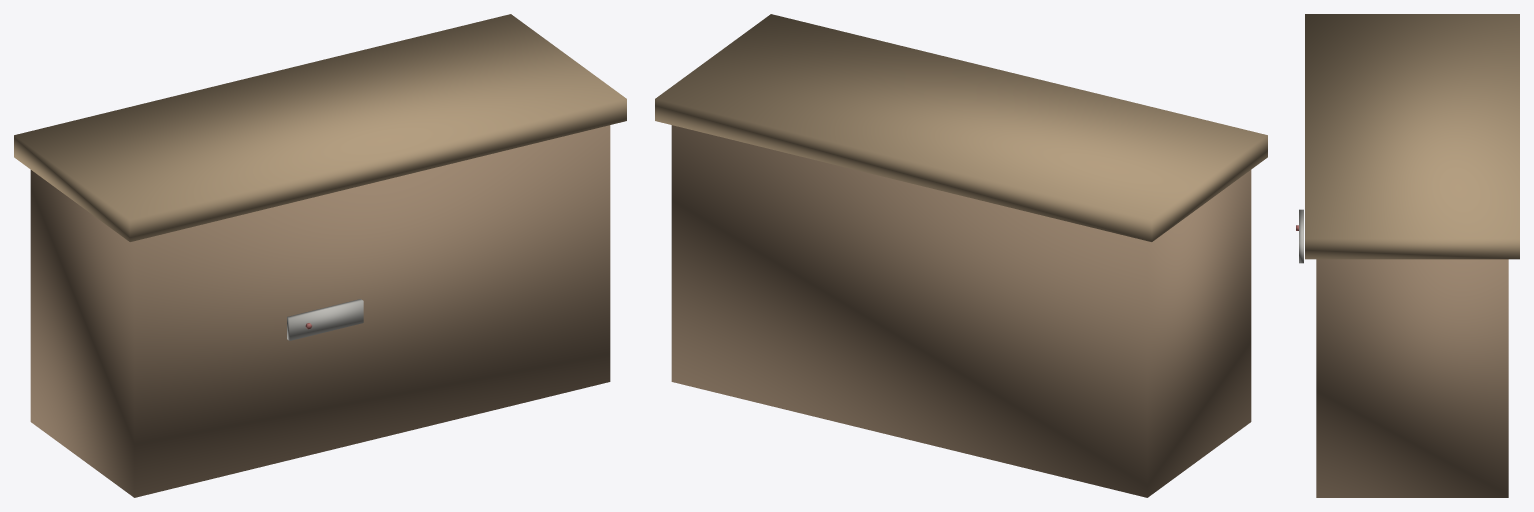
Rendered from pawn_counter.glb.
3 renders of one model, left to right at view 1: azimuth 30°, elevation 25°; view 2: azimuth 150°, elevation 25°; view 3: azimuth 270°, elevation 25°, orthographic. The views are drawn at different scales.
Parts seen in each view (by area): view 1: world; view 2: world; view 3: world.
Boxes of the visible parts, x1,y1,x2,y2 form: world: (14, 14, 626, 497); world: (655, 14, 1267, 497); world: (1296, 14, 1519, 497).
Size of the model in its own units: 1.88 by 1.03 by 0.791.
